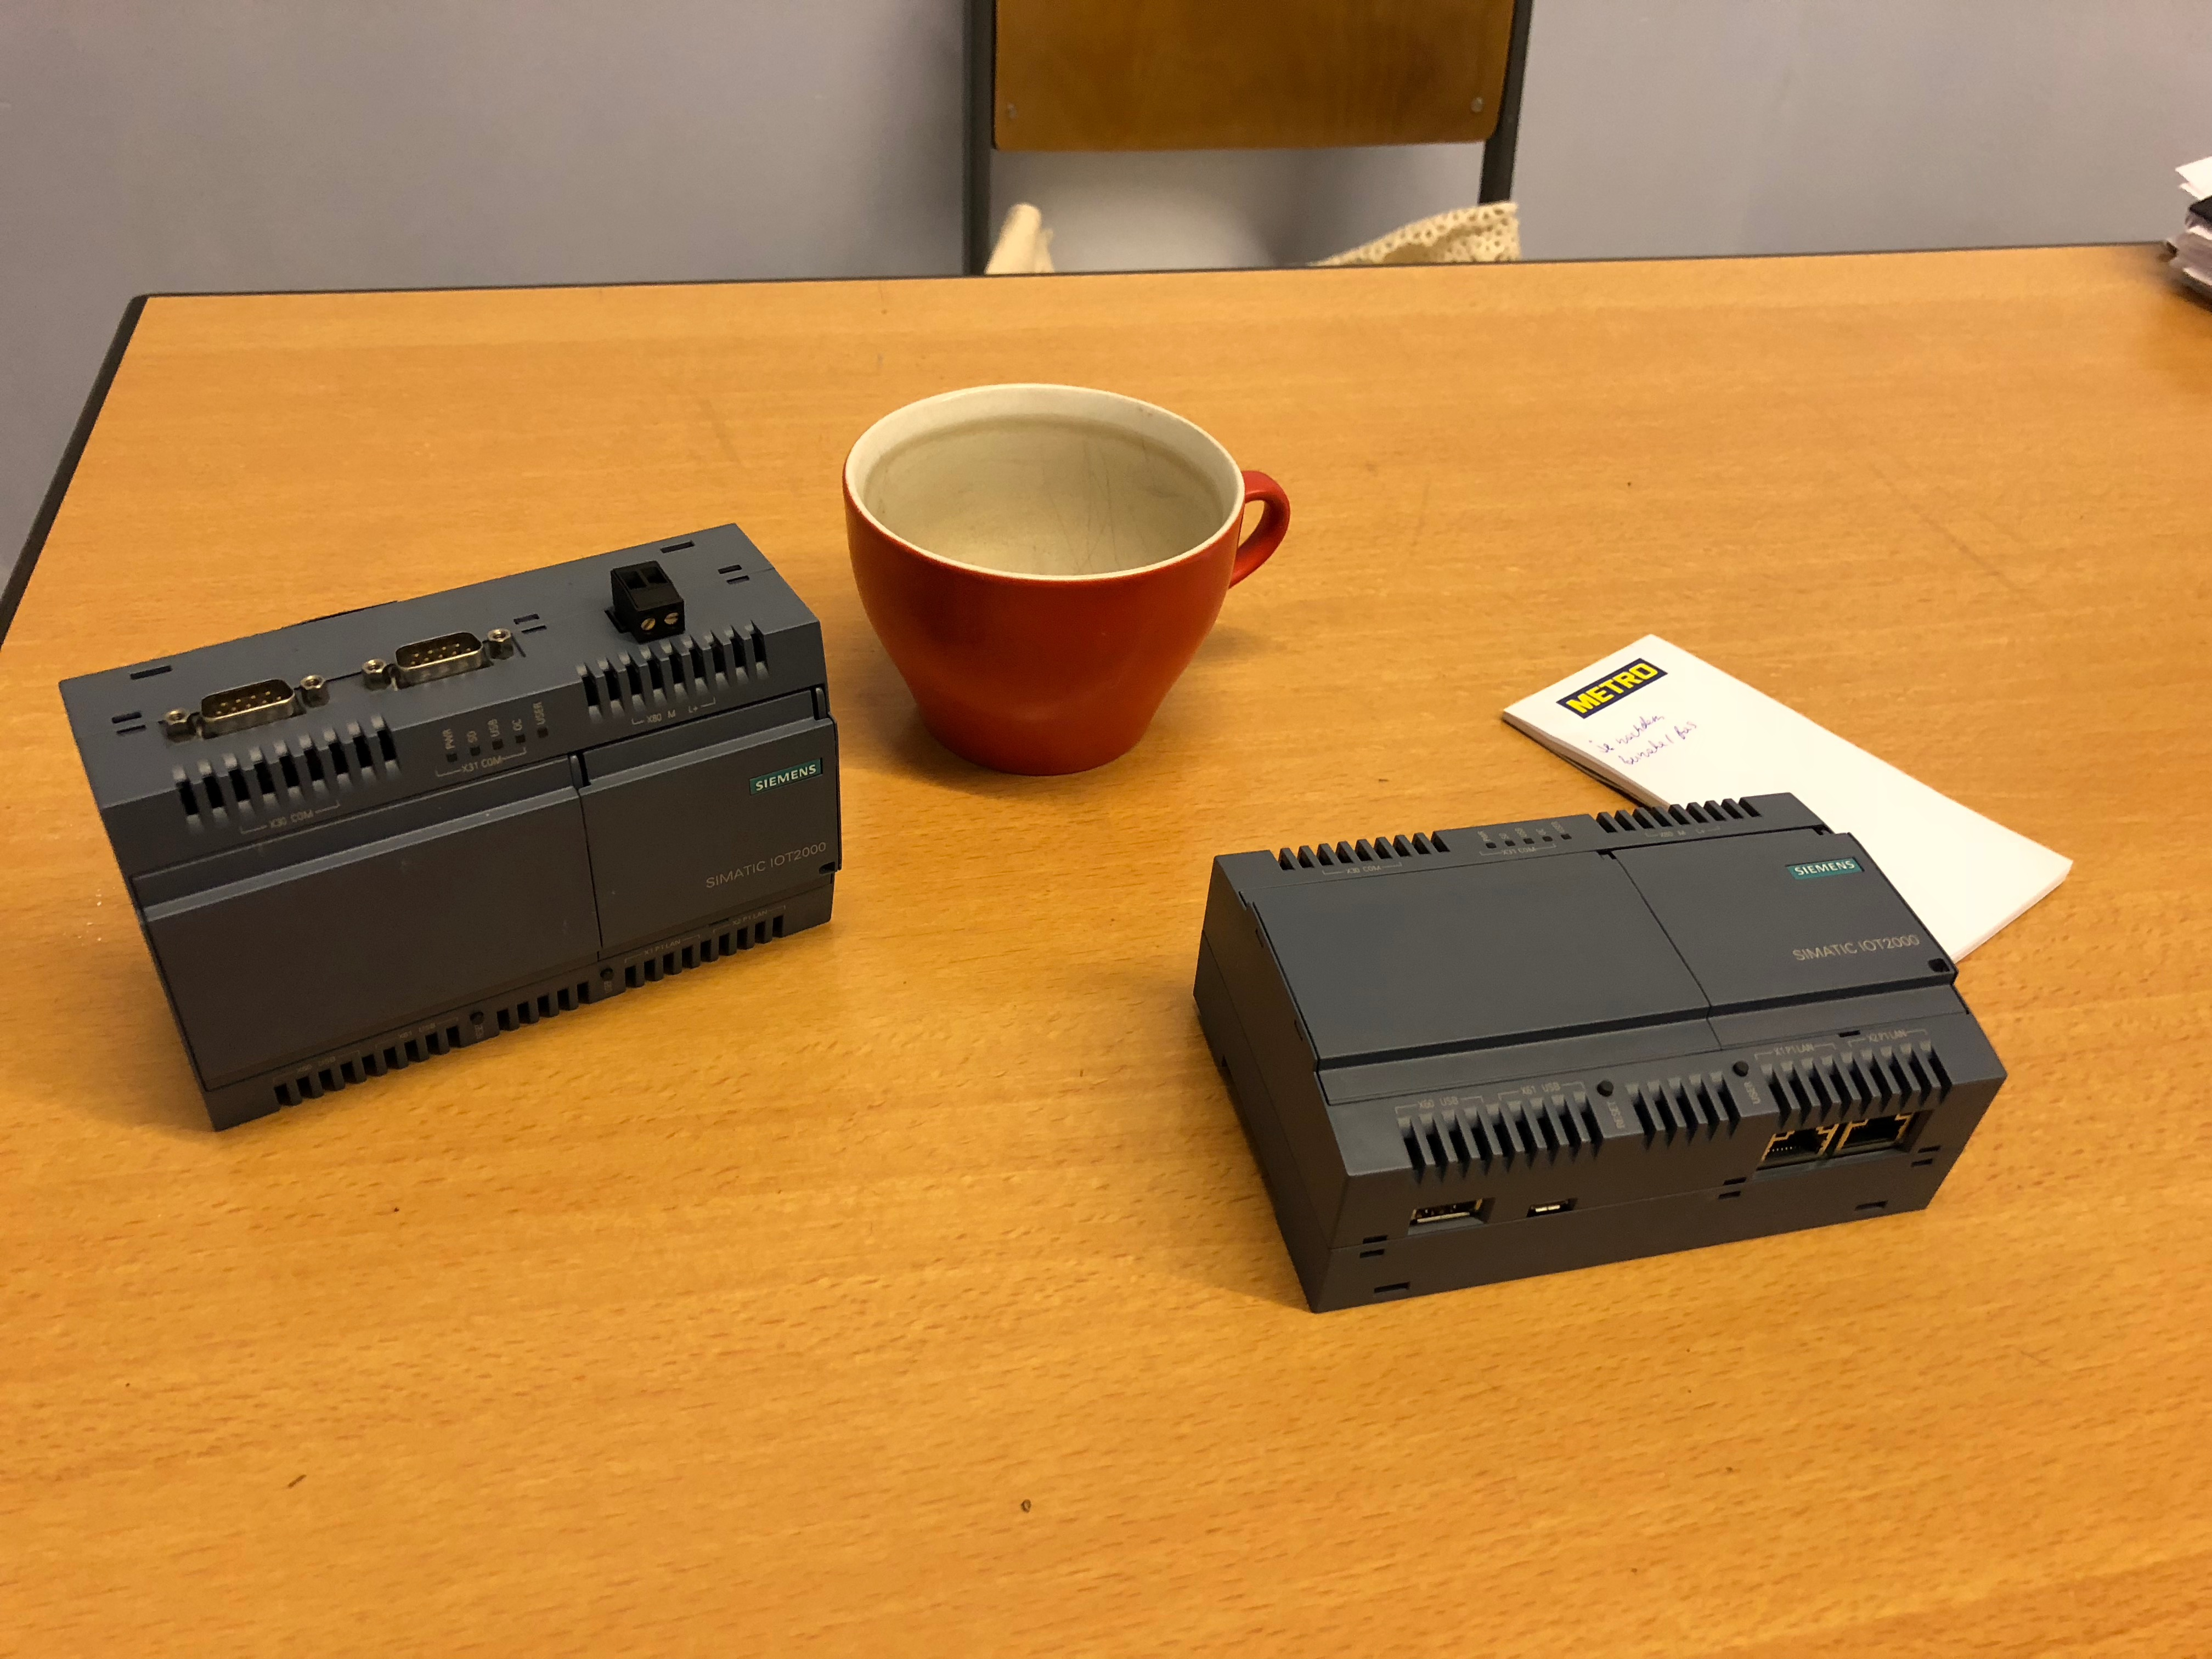device: (57, 523, 843, 1134), (1191, 791, 2008, 1314)
